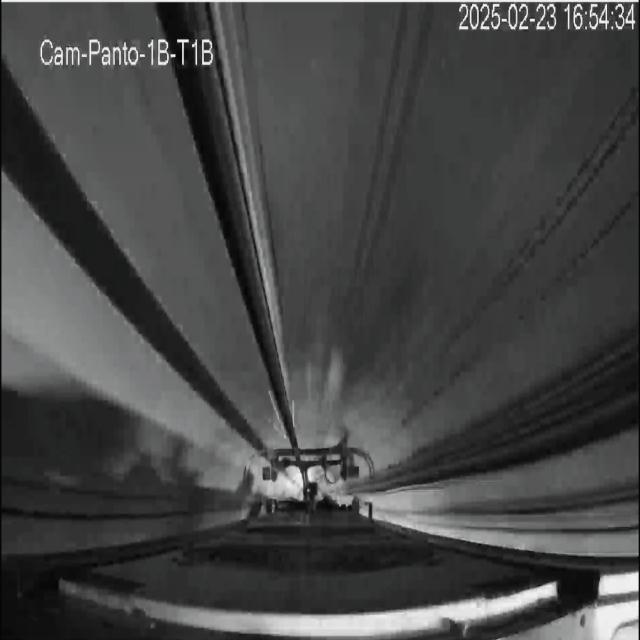Camera Stamp: (39, 33, 218, 69)
Date Stamp: (458, 2, 636, 33)
Sparks: (270, 394, 288, 434)
